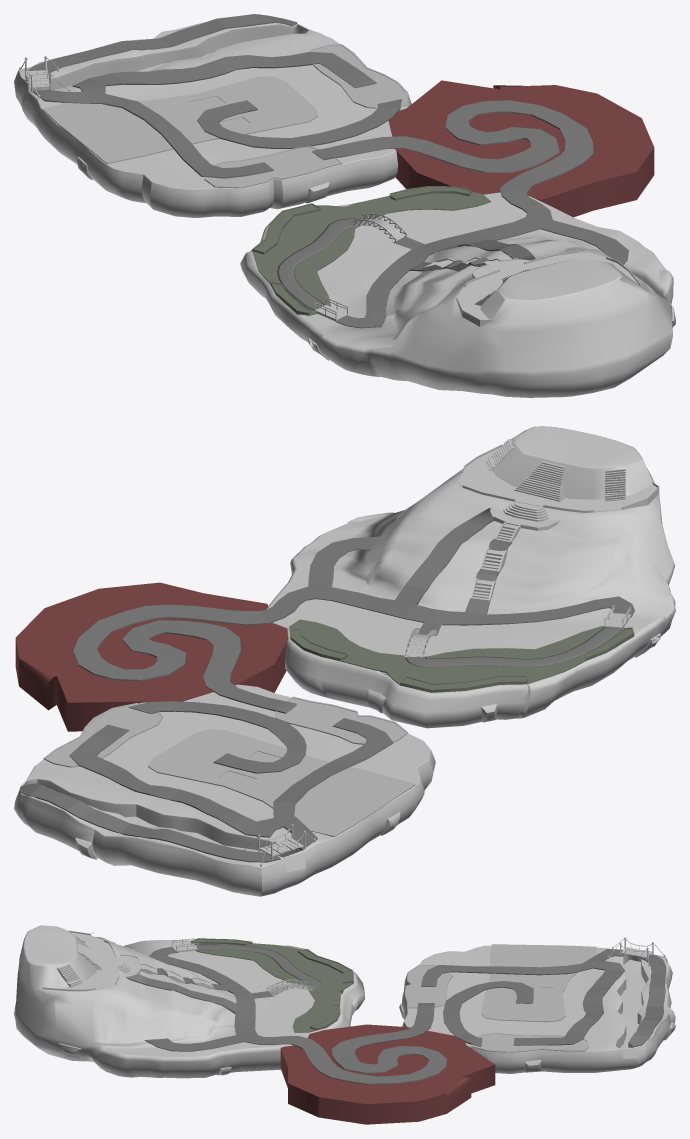
The model's file is MapaBorondo3(Camino+Terreno).fbx.
3 views of the same model, one above another, from view 1: azimuth 30°, elevation 25°; view 2: azimuth 150°, elevation 25°; view 3: azimuth 270°, elevation 25° (orthographic). The views are drawn at different scales.
Visible parts, largest first — view 1: Terreno, Camino; view 2: Terreno, Camino; view 3: Terreno, Camino.
Boxes of the visible parts, left/top/right/bottom form: Terreno: left=14, top=14, right=675, bottom=397; Camino: left=25, top=14, right=628, bottom=328; Terreno: left=14, top=426, right=675, bottom=896; Camino: left=20, top=508, right=634, bottom=862; Terreno: left=14, top=925, right=675, bottom=1124; Camino: left=126, top=944, right=666, bottom=1084.
Bounding box in the file's own units: 10941 × 2735 × 18587.
